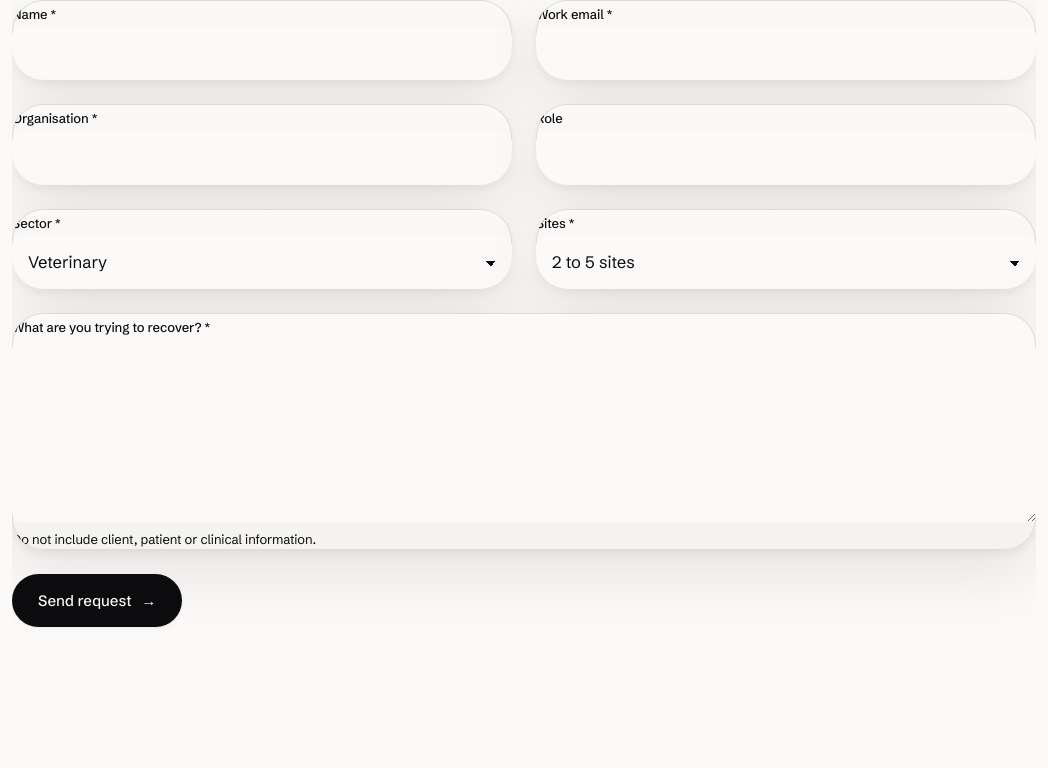
Scenario: AssessmentForm — configured › posts the collected values and shows the reference on success
Type "Jordan Ellis" into the field labelled "Name *" at (262, 53), box left=12, top=26, right=512, bottom=80
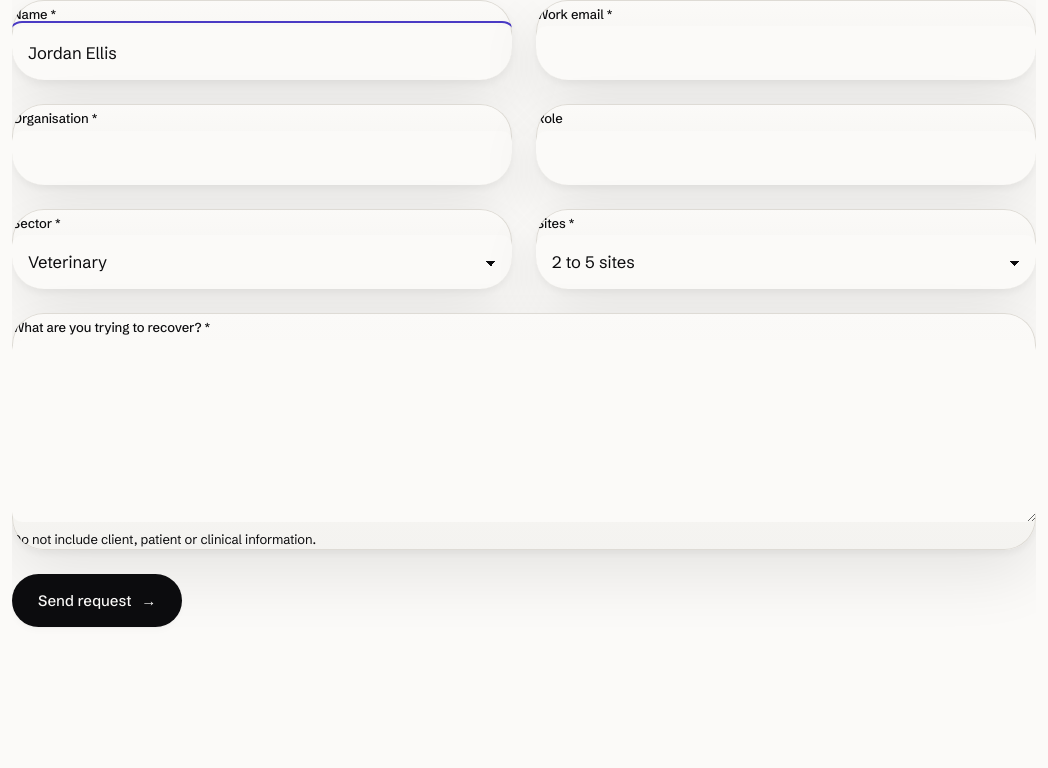
Type "jordan@example.com" into the field labelled "Work email *" at (786, 53), box left=536, top=26, right=1036, bottom=80
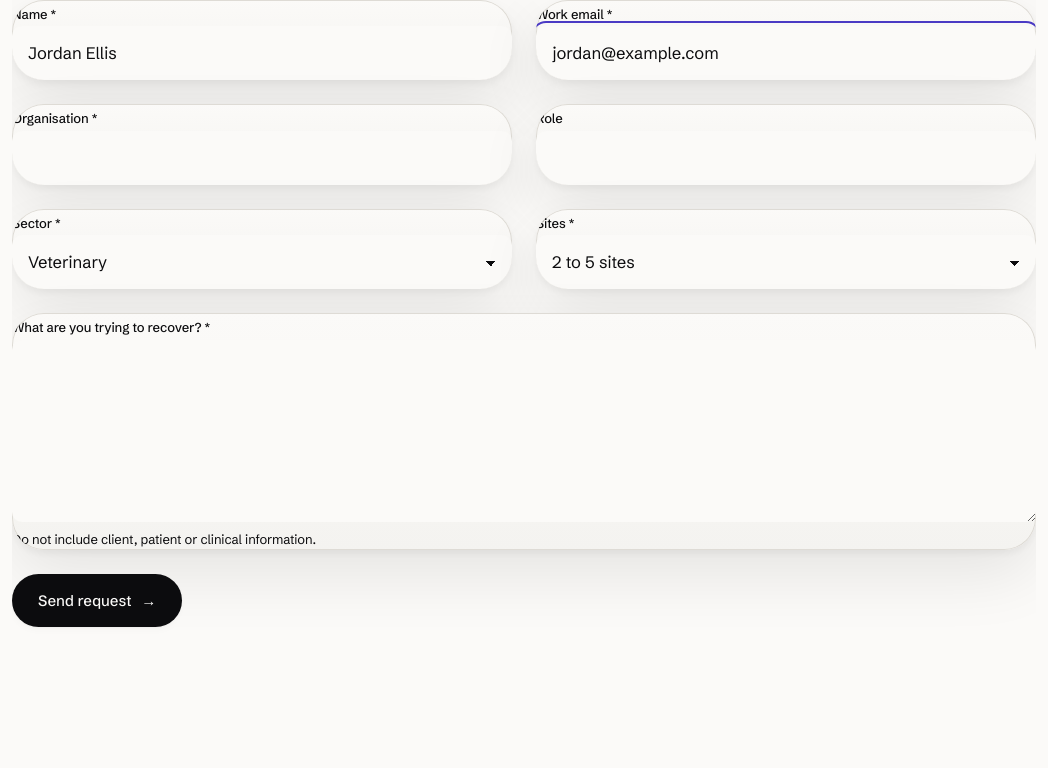
Type "Northgate Veterinary Group" into the field labelled "Organisation *" at (262, 158), box left=12, top=131, right=512, bottom=185
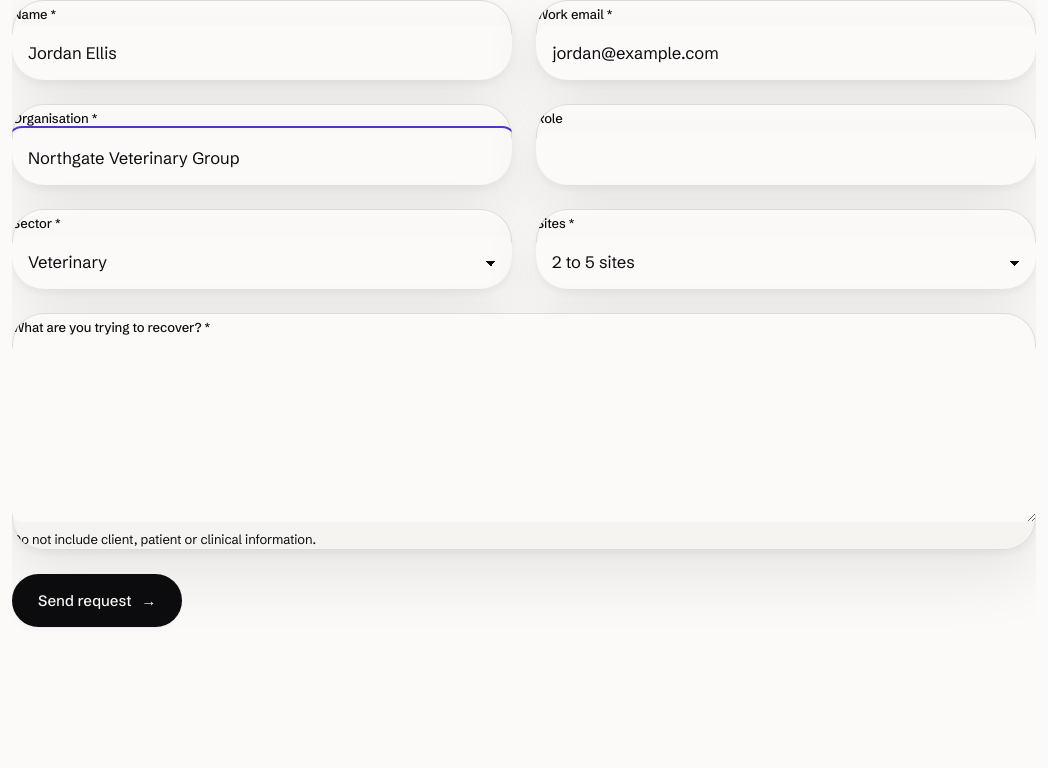
Type "We believe we are losing after-hours calls across four sites." into the text box labelled "What are you trying to recover? *" at (524, 431), box left=12, top=340, right=1036, bottom=522
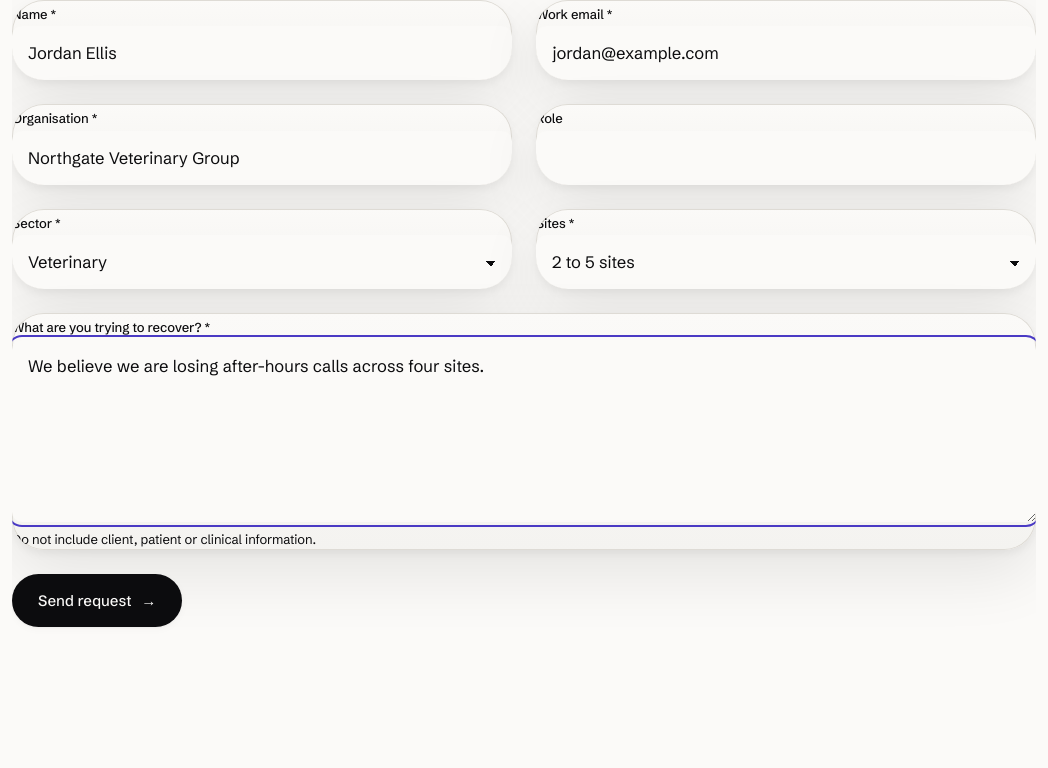
Click the button "Send request →" at (97, 601), box left=12, top=574, right=182, bottom=627
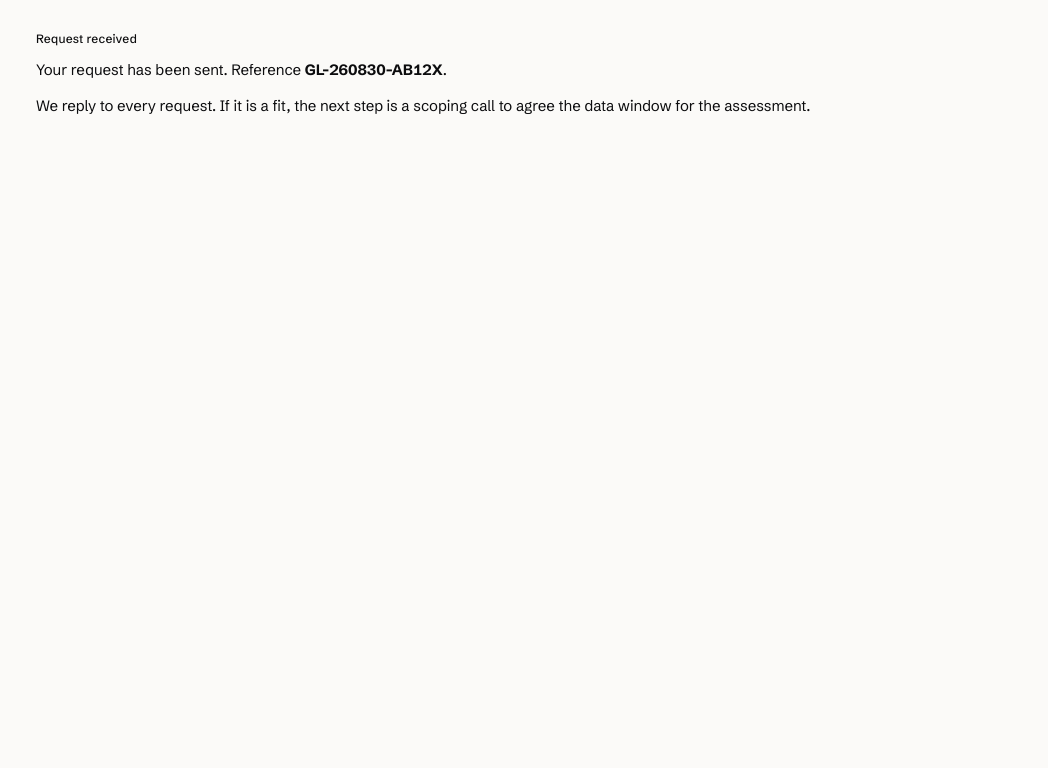
Result: the text "GL-260830-AB12X" is shown at left=305, top=60, right=443, bottom=79
Result: the button "Send request" is gone
